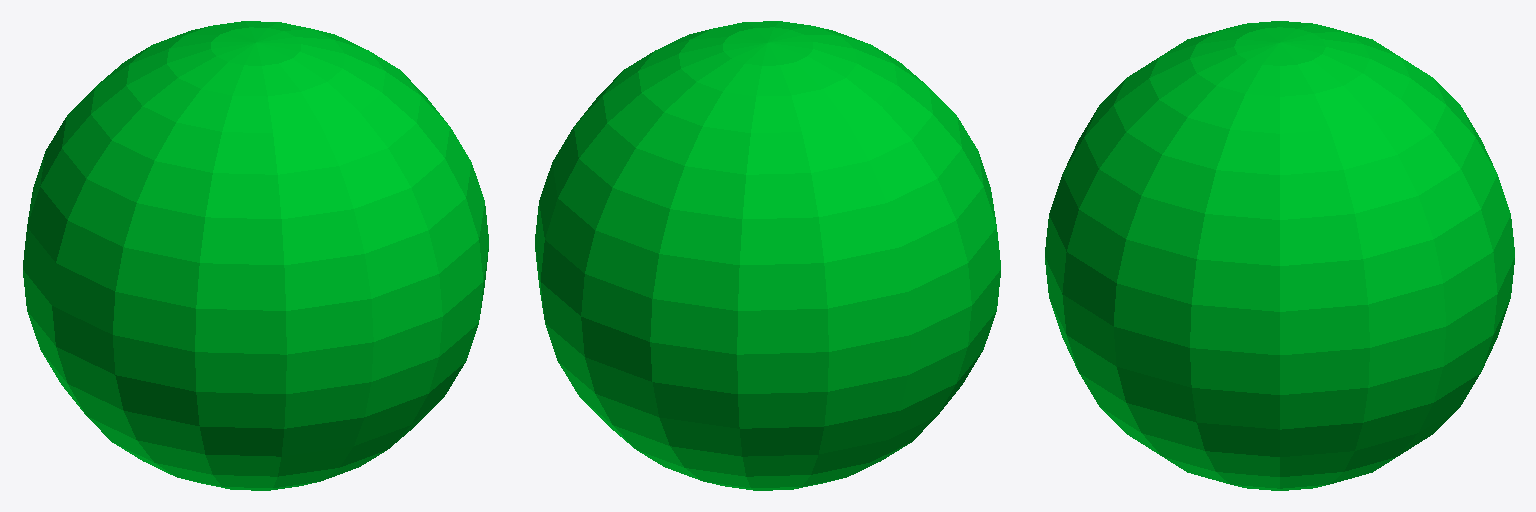
File: squash.obj
3 views of the same model, side by side, from view 1: azimuth 30°, elevation 25°; view 2: azimuth 150°, elevation 25°; view 3: azimuth 270°, elevation 25° (orthographic).
Parts seen in each view (by area): view 1: Sphere; view 2: Sphere; view 3: Sphere.
Part boxes in pixels (left/top/right/bottom): Sphere: left=23, top=21, right=488, bottom=490; Sphere: left=535, top=21, right=1000, bottom=490; Sphere: left=1045, top=21, right=1514, bottom=490.
Size of the model in its own units: 2 by 2 by 2.